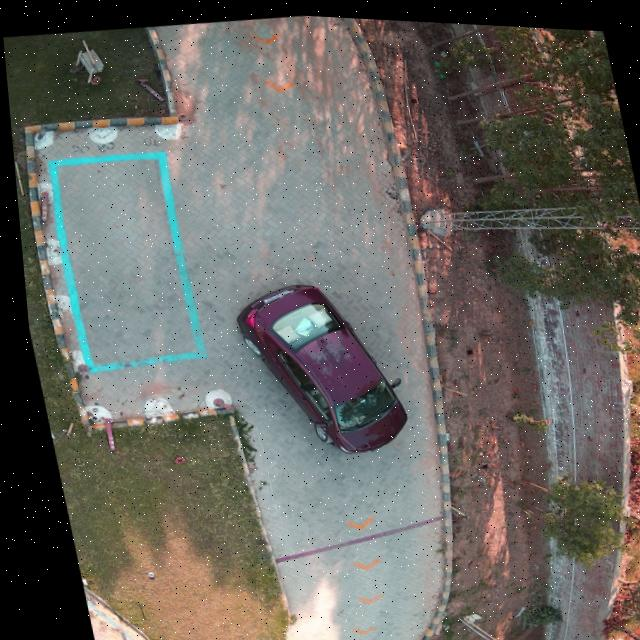car: (229, 280, 400, 451)
